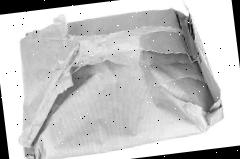paper: (4, 0, 226, 159)
